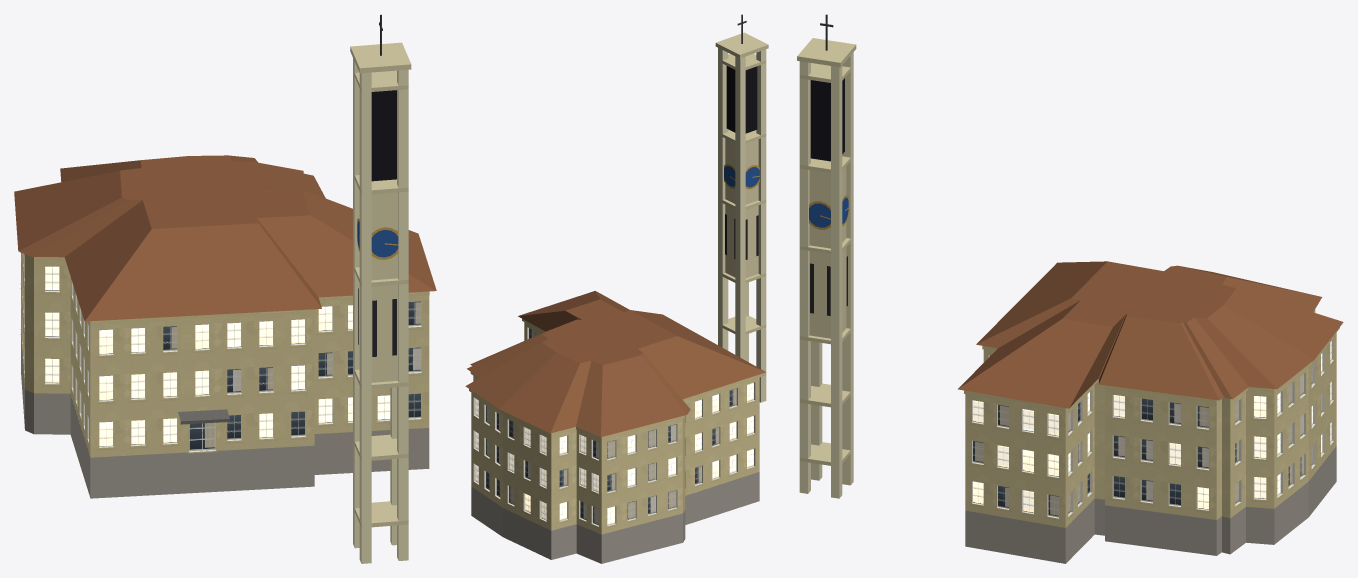
The model's file is bullingerkirche.glb.
3 renders of one model, left to right at view 1: azimuth 30°, elevation 25°; view 2: azimuth 150°, elevation 25°; view 3: azimuth 270°, elevation 25°, orthographic. The views are drawn at different scales.
Parts seen in each view (by area): view 1: bullingerkirche; view 2: bullingerkirche; view 3: bullingerkirche.
Part boxes in pixels (x1,y1,x2,y2): bullingerkirche: (14, 14, 436, 563); bullingerkirche: (465, 14, 768, 563); bullingerkirche: (797, 14, 1343, 563).
Size of the model in its own units: 34.79 by 53.02 by 55.
Materials: 3 (3 with a texture image).
